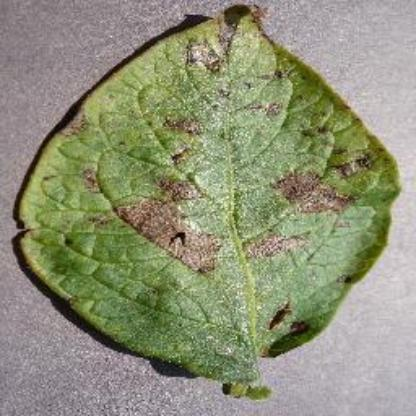Early-Blight: (15, 4, 401, 398)
